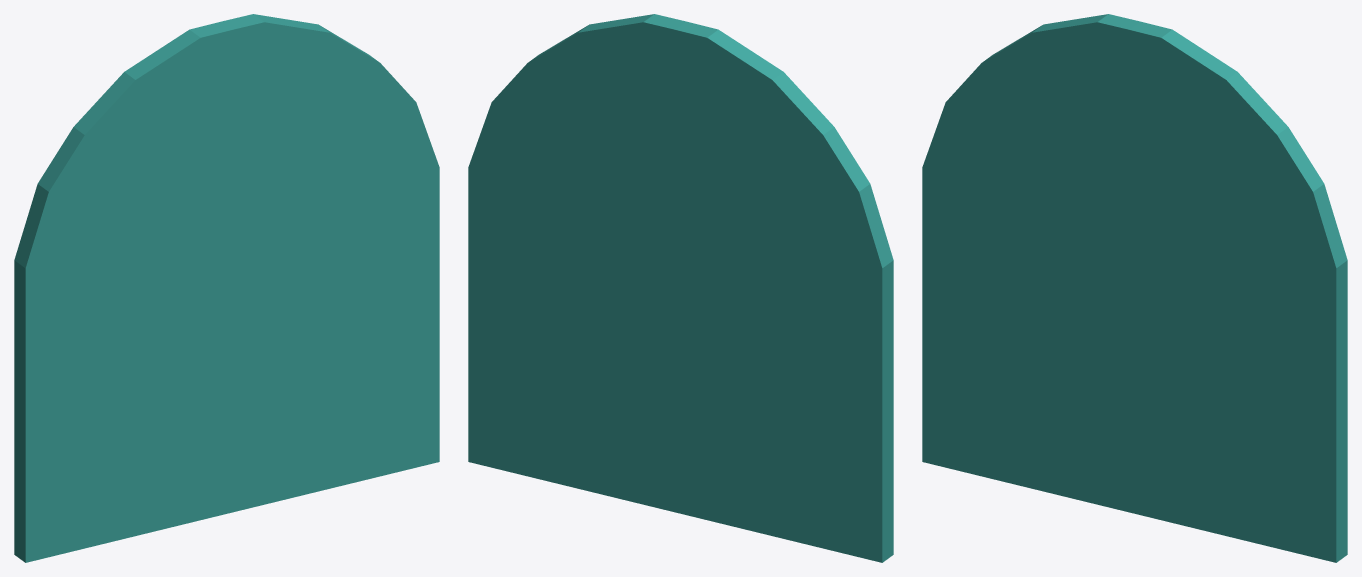
The model's file is WindowsA_1.fbx.
The picture shows the model from 3 angles, left to right: view 1: azimuth 30°, elevation 25°; view 2: azimuth 150°, elevation 25°; view 3: azimuth 330°, elevation 25°; orthographic projection.
Parts seen in each view (by area): view 1: WindowA_1; view 2: WindowA_1; view 3: WindowA_1.
Boxes of the visible parts, x1,y1,x2,y2 form: WindowA_1: (14,14,439,562); WindowA_1: (468,14,893,562); WindowA_1: (922,14,1347,562).
Bounding box in the file's own units: 72.58 × 80.85 × 3.42.
